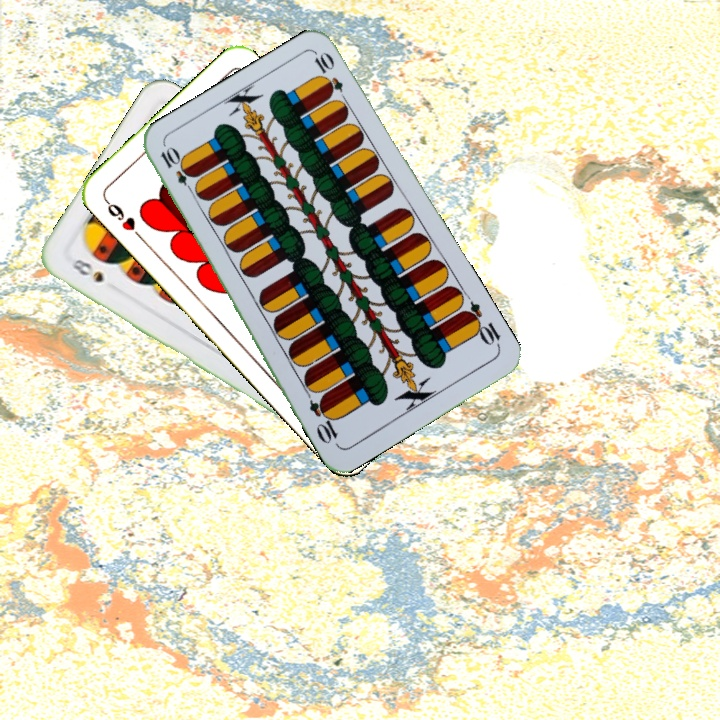E10: (458, 298, 503, 351), (156, 143, 199, 197)
H9: (100, 195, 145, 242)
S8: (67, 254, 106, 285)
